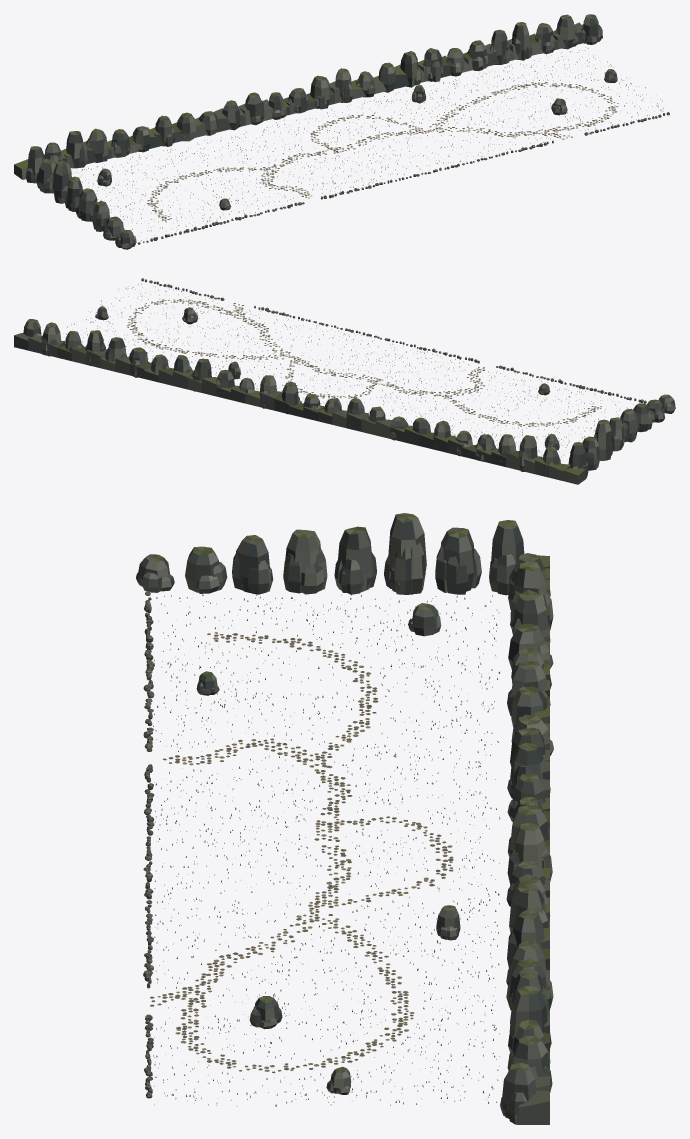
Rendered from highwood-landscape.glb.
The picture shows the model from 3 angles, top to bottom: view 1: azimuth 30°, elevation 25°; view 2: azimuth 150°, elevation 25°; view 3: azimuth 270°, elevation 25°; orthographic projection. The views are drawn at different scales.
Parts seen in each view (by area): view 1: A02_FracturedRockFaces, A02_WornStoneTrails, A02_DryUndergrowth; view 2: A02_FracturedRockFaces, A02_WornStoneTrails, A02_DryUndergrowth; view 3: A02_FracturedRockFaces, A02_WornStoneTrails, A02_DryUndergrowth.
Part boxes in pixels (x1,y1,x2,y2): A02_FracturedRockFaces: (14, 14, 669, 249); A02_WornStoneTrails: (147, 82, 618, 222); A02_DryUndergrowth: (73, 47, 663, 240); A02_FracturedRockFaces: (14, 278, 675, 484); A02_WornStoneTrails: (127, 299, 601, 426); A02_DryUndergrowth: (60, 283, 633, 457); A02_FracturedRockFaces: (136, 513, 553, 1124); A02_WornStoneTrails: (150, 632, 453, 1073); A02_DryUndergrowth: (153, 593, 500, 1106).
Bounding box in the file's own units: 156 × 9.65 × 50.08.
